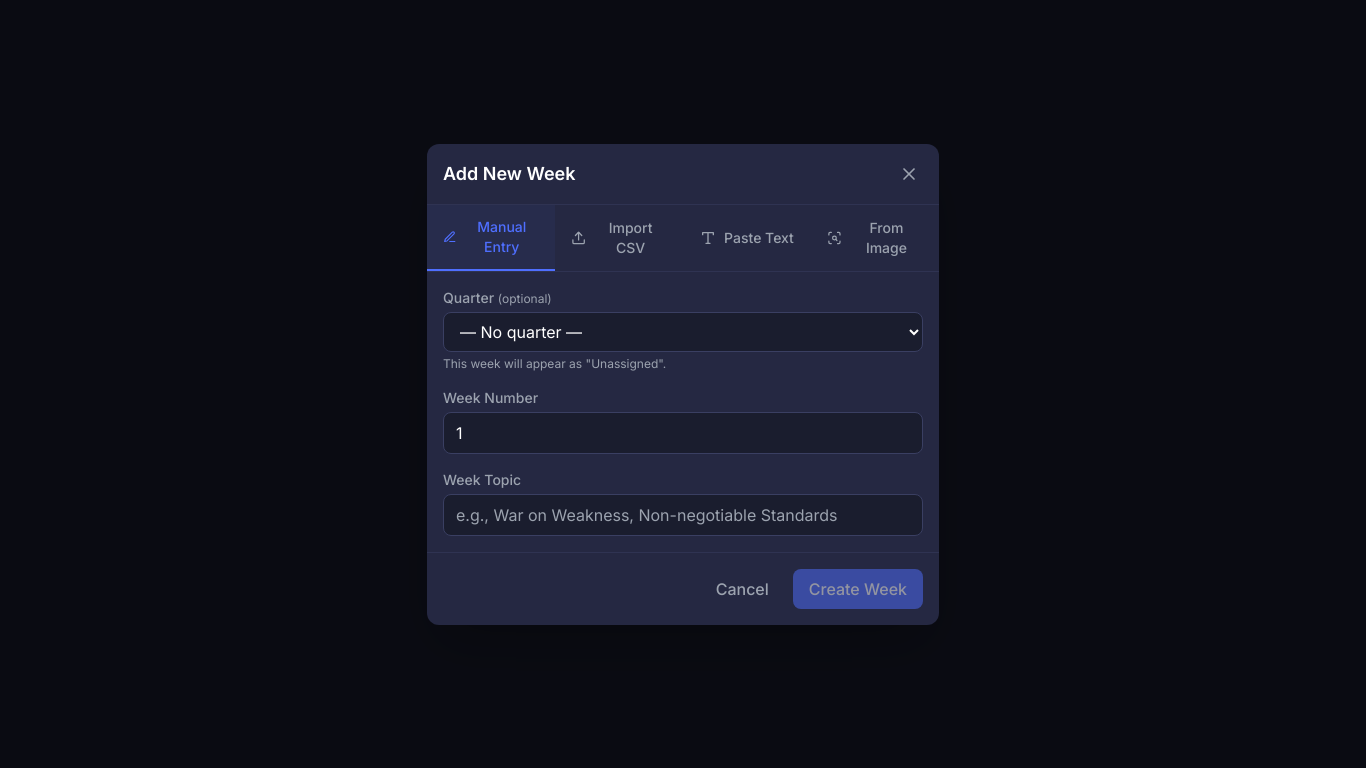
Test case: WeekModal › switches to text mode and shows textarea
This screenshot has width=1366, height=768.
Step 1. Click the button "Paste Text" → click(747, 238), box [683,204,811,270]
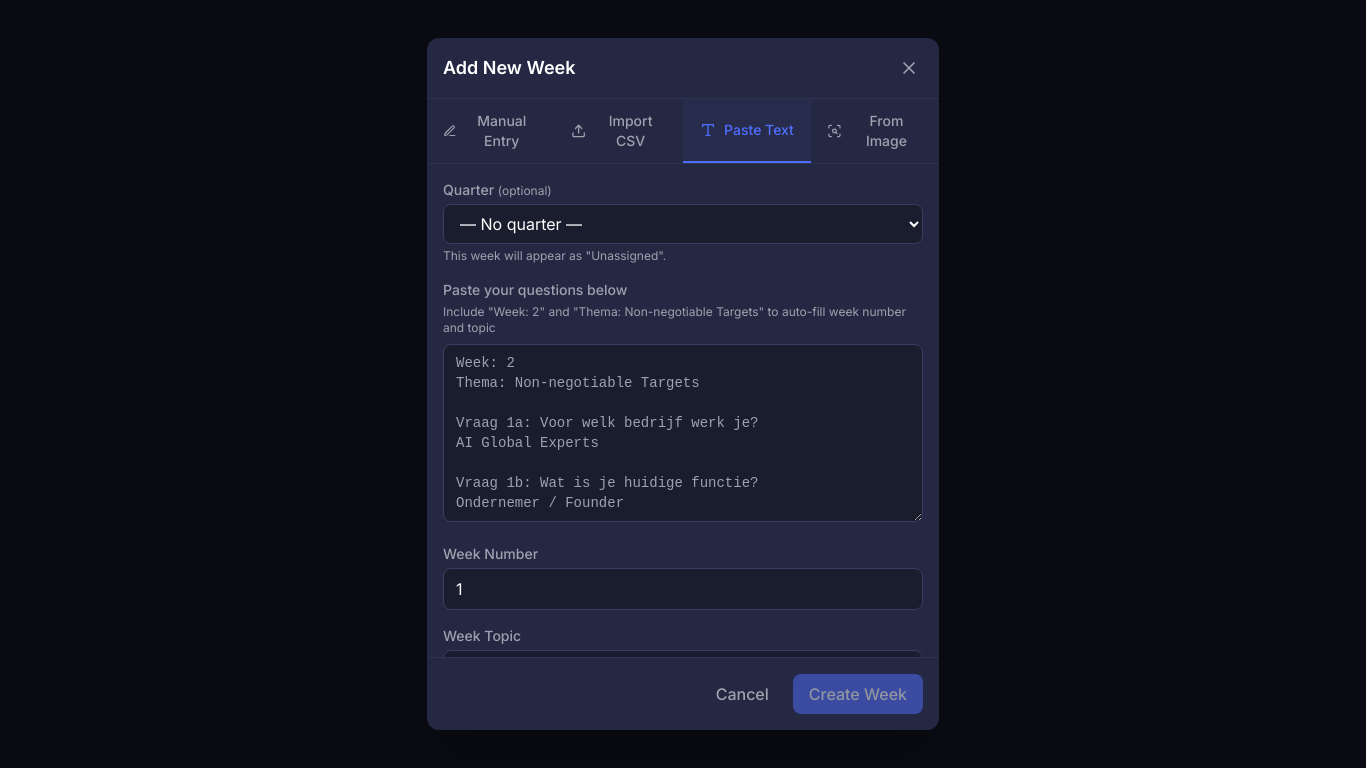
Result: the text "Paste your questions below" is shown at [443,281,627,298]
